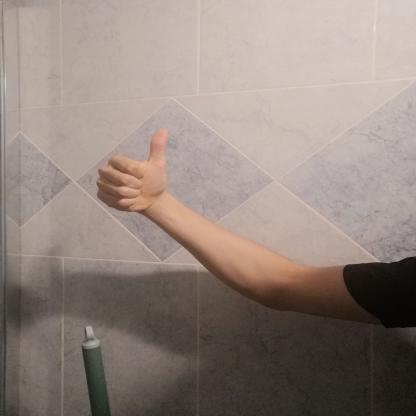ALIF: (88, 120, 187, 219)
